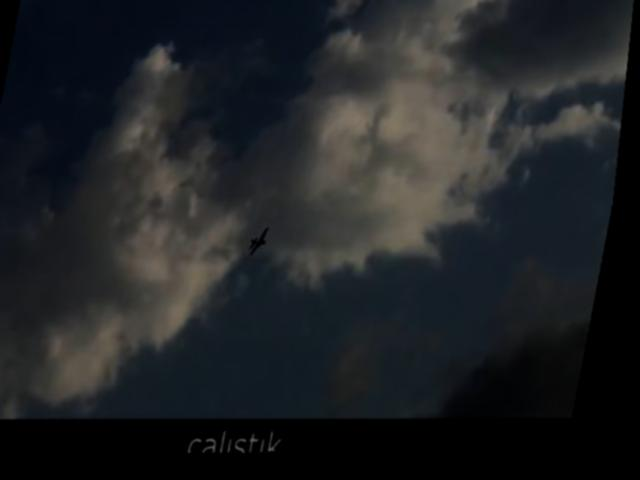uav: (243, 221, 285, 271)
